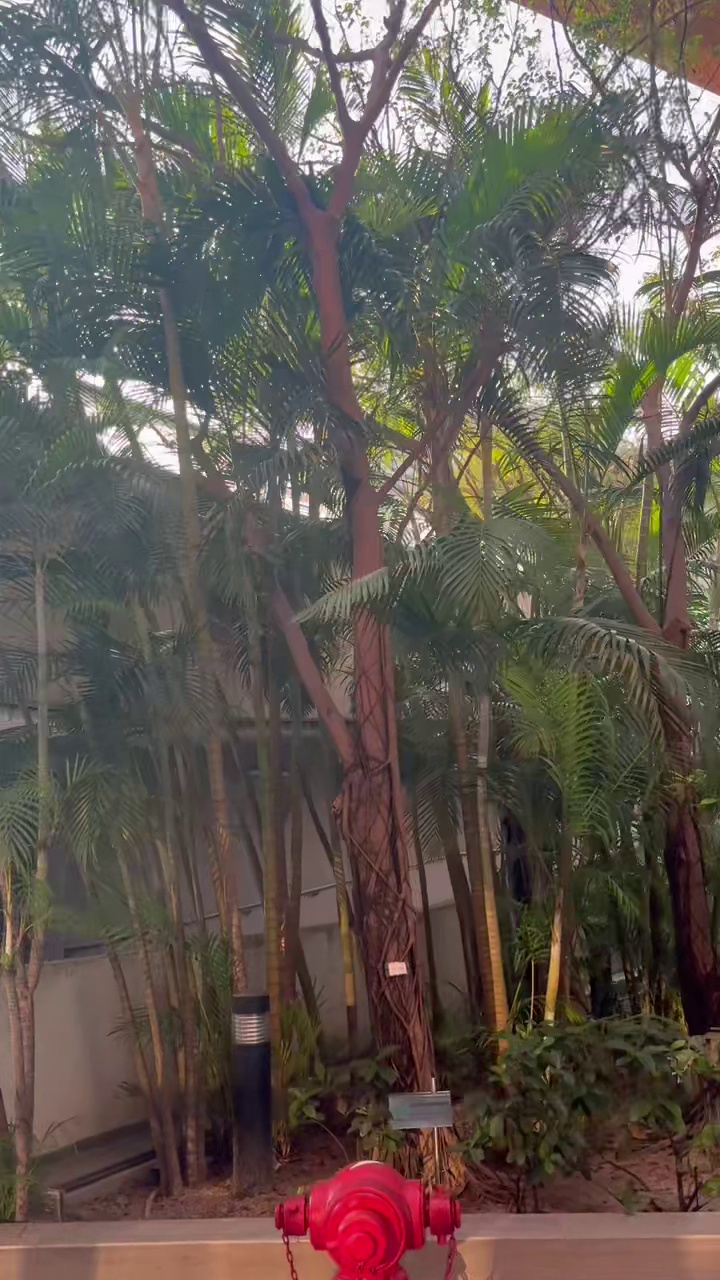Ficus benjamina: (167, 0, 438, 1090)
